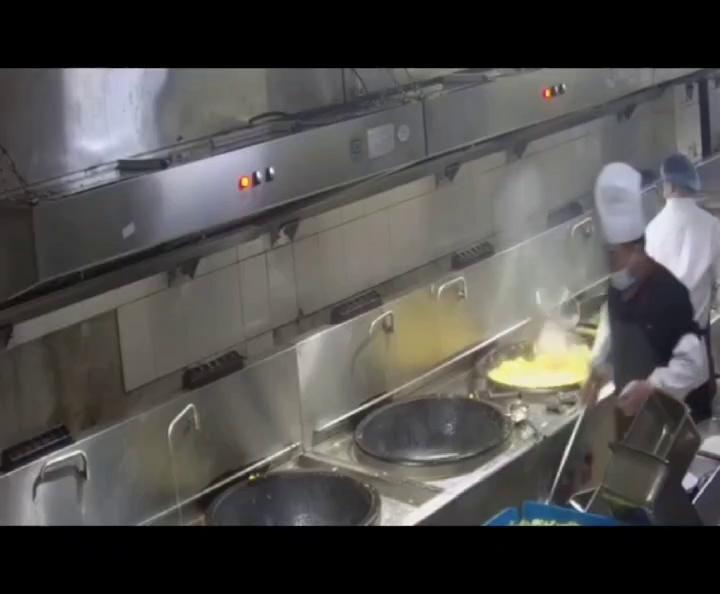mask: (604, 250, 635, 288)
